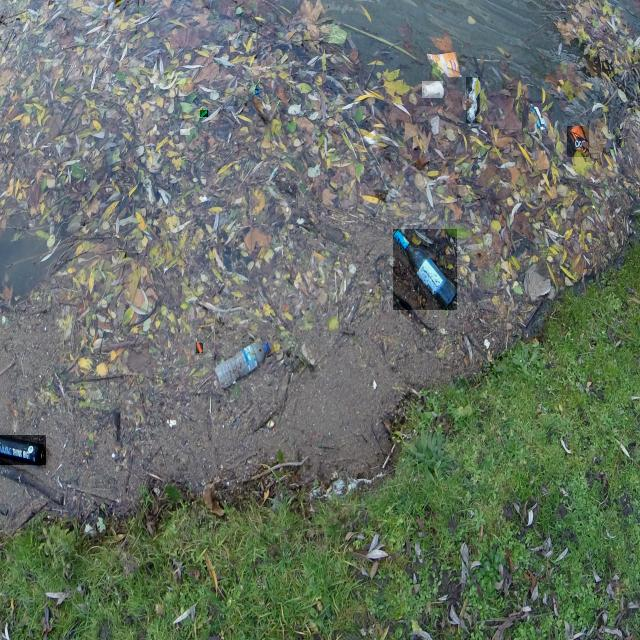Clear plastic bottle: (394, 229, 457, 310), (216, 342, 270, 388)
Crisp packet: (427, 52, 463, 77), (567, 127, 589, 157)
Other can: (0, 436, 46, 465)
Other plastic: (529, 104, 547, 134)
Other plastic bottle: (196, 343, 203, 353), (201, 110, 208, 117), (255, 90, 258, 94)
Unlabeled litter: (467, 78, 480, 123), (423, 82, 443, 98), (181, 129, 190, 135)
